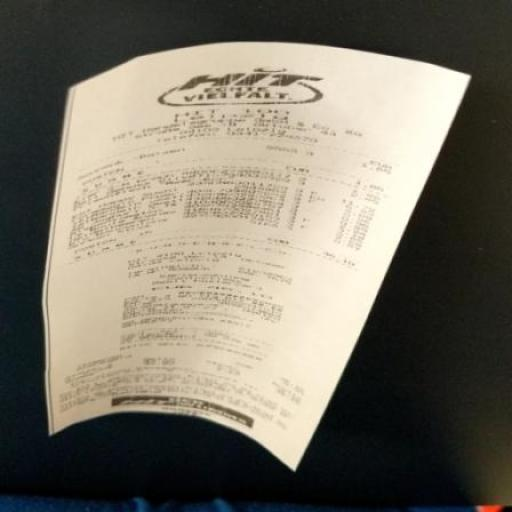paper: (34, 16, 502, 486)
